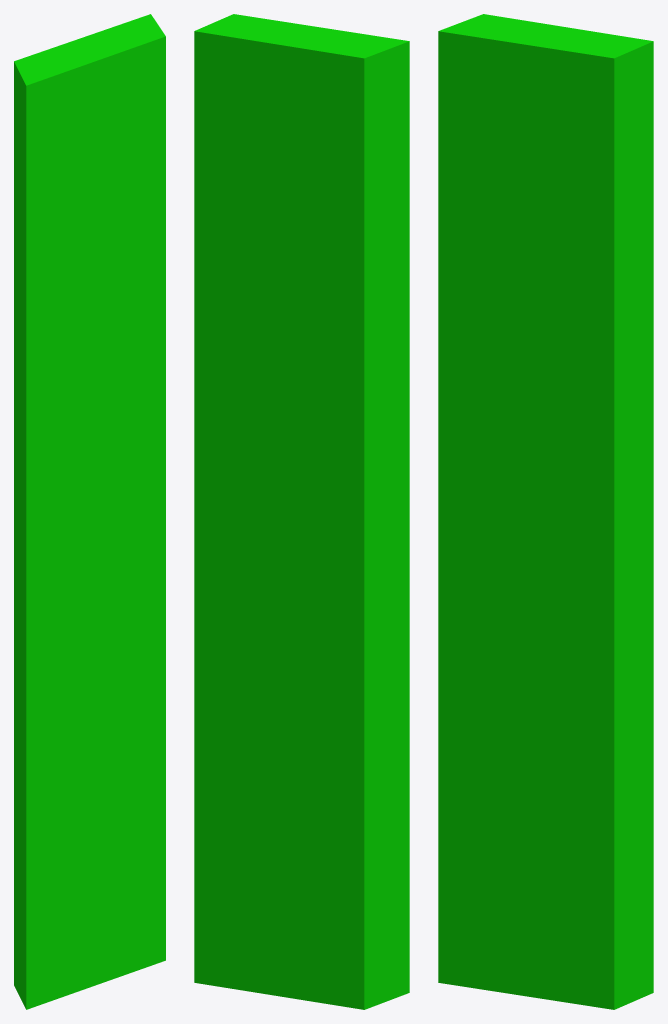
3 views of the same model, side by side, from view 1: azimuth 30°, elevation 25°; view 2: azimuth 150°, elevation 25°; view 3: azimuth 330°, elevation 25° (orthographic). The views are drawn at different scales.
Parts seen in each view (by area): view 1: Plane.018; view 2: Plane.018; view 3: Plane.018.
Part boxes in pixels (left/top/right/bottom): Plane.018: left=14, top=14, right=165, bottom=1009; Plane.018: left=194, top=14, right=409, bottom=1009; Plane.018: left=438, top=14, right=653, bottom=1009.
Bounding box in the file's own units: 537 × 2839 × 236.
